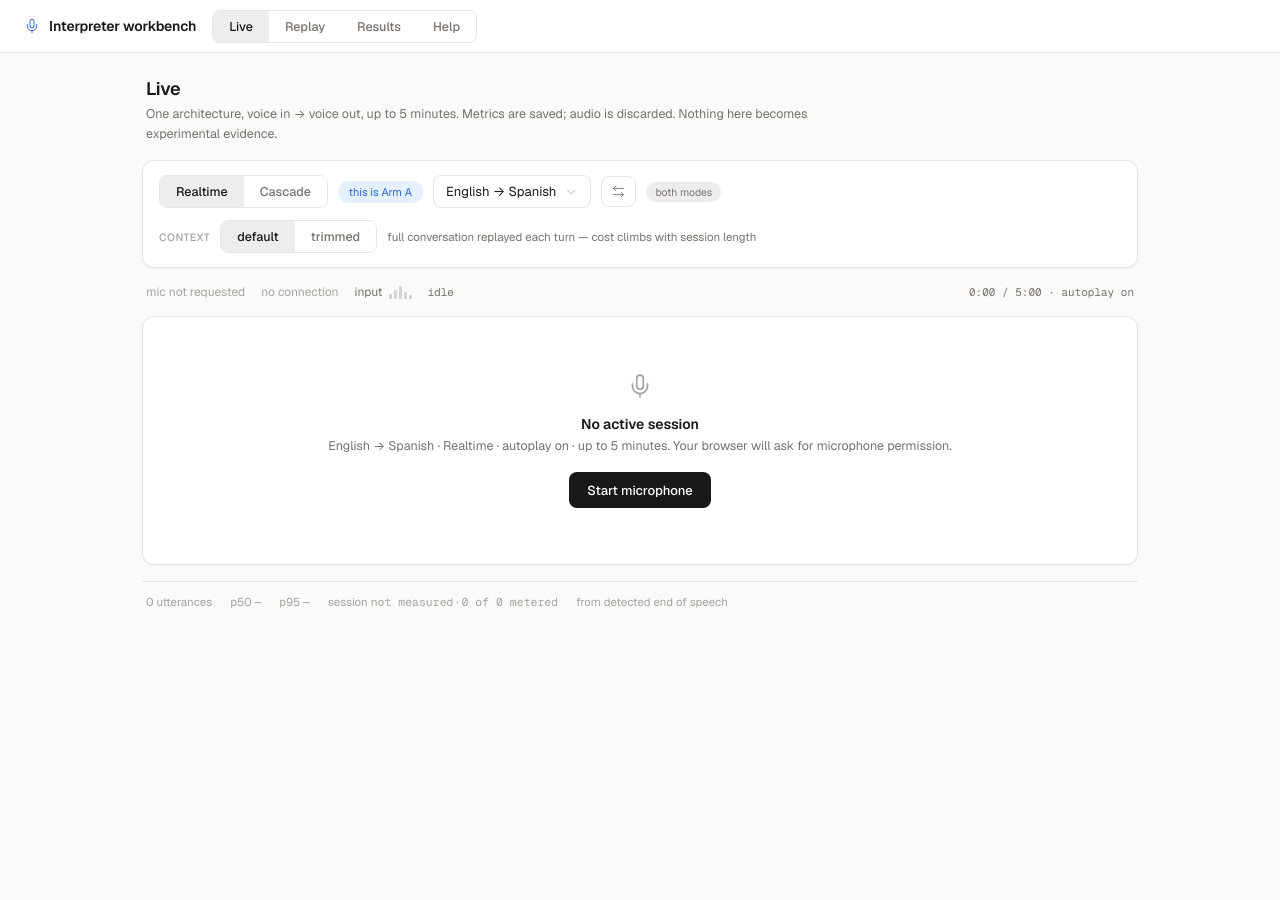
Test case: mic permission: live four-value indicator › denied → mic blocked + a BLOCKING card naming BOTH remediation layers
This screenshot has width=1280, height=900.
Click the button "Start microphone".
click(640, 490)  # box [569,472,711,508]
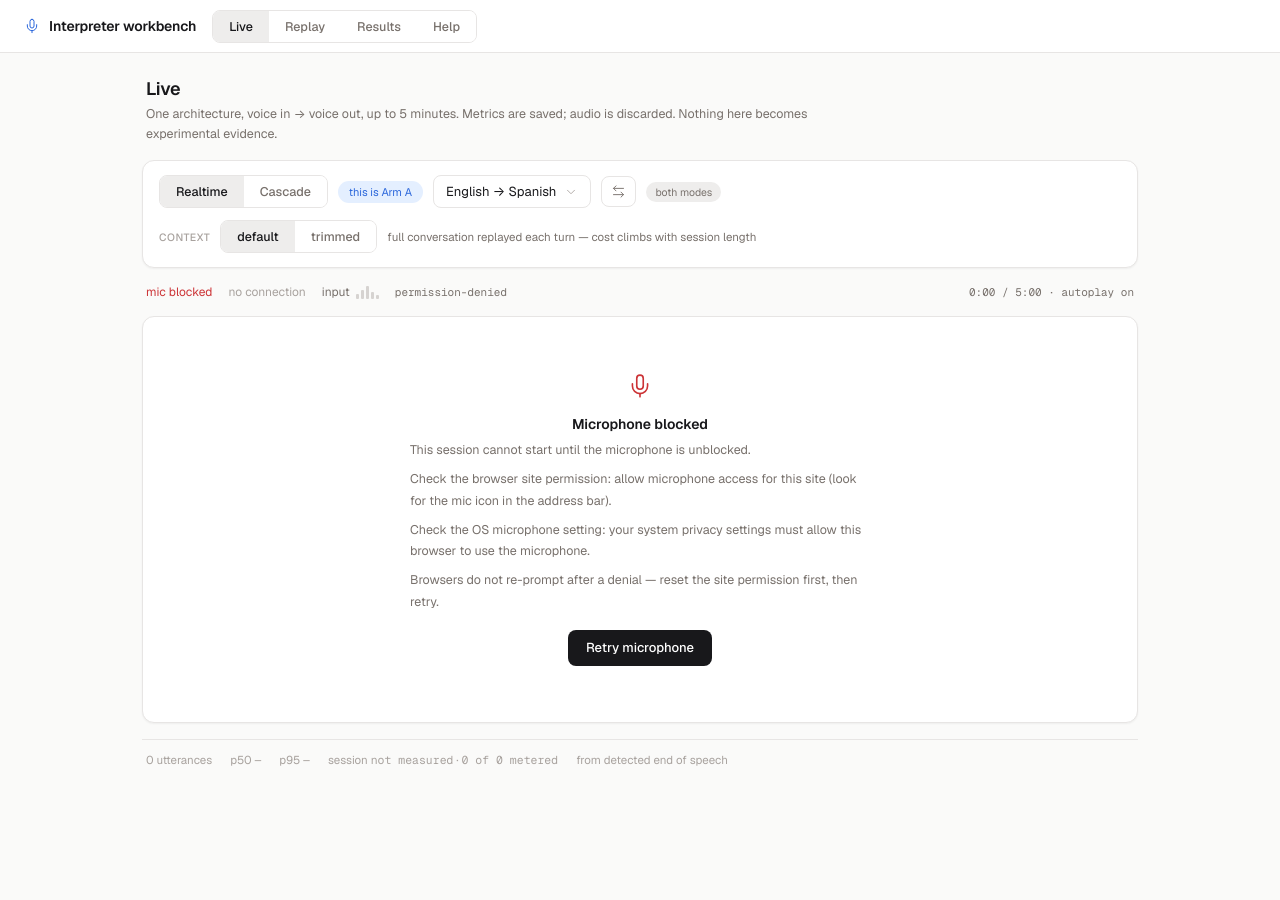
expect the text "mic blocked" is shown: met, box [146,284,212,300]
expect the text "No active session" is gone: met
expect the element that starts with "Microphone blocked" shows "site permission": met, box [410,470,857,509]
